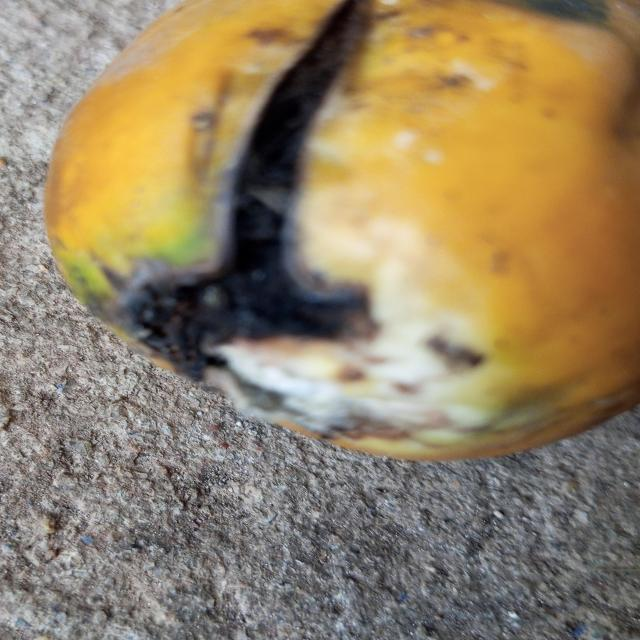damaged: (42, 0, 640, 465)
